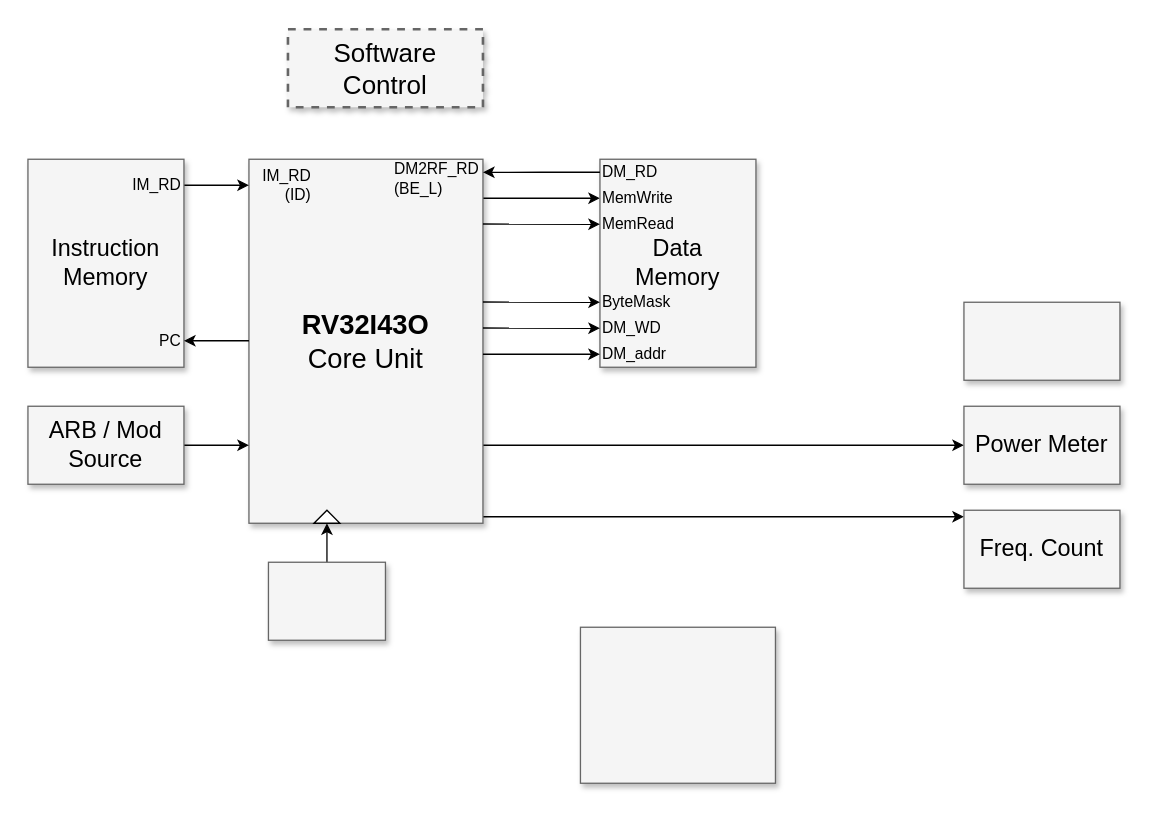
Some shapes in this 1151 by 815 pixel diagram are drawn without their labels. The shapes that lost their labels are listed below. From the top down, each one's centre as x and y in pixels, then its label:
At point (1042, 342): "Memory Controller".
At point (327, 602): "Clock Generator".
At point (678, 706): "DUT".
